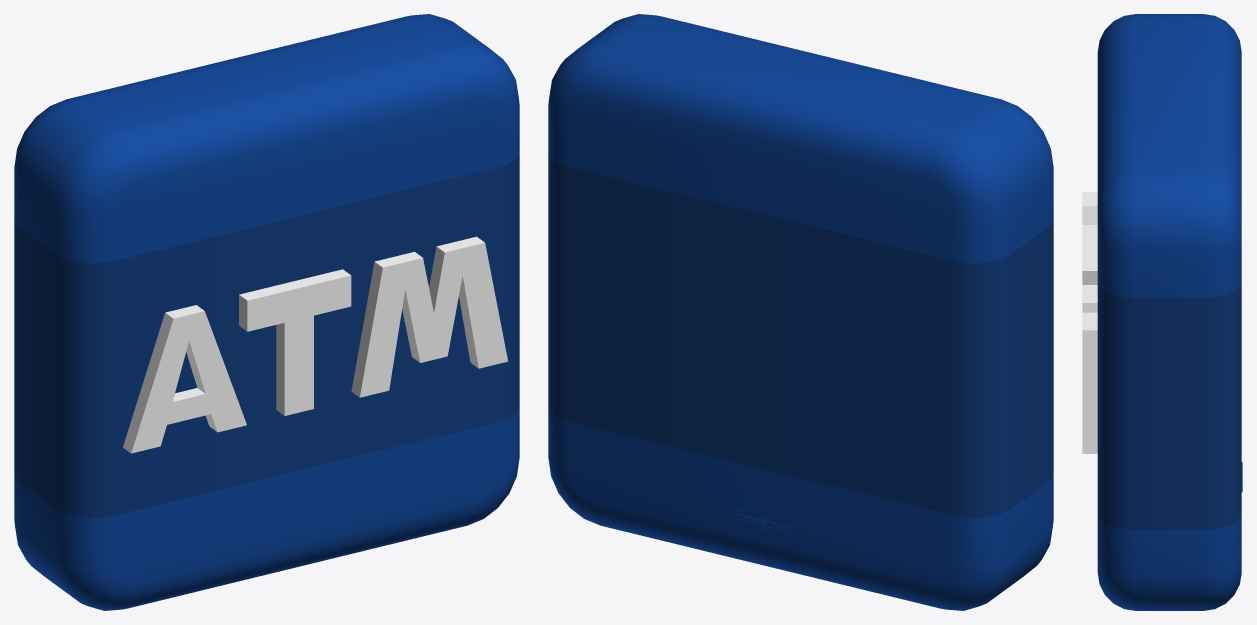
Rendered from atm_sign.glb.
The picture shows the model from 3 angles, left to right: view 1: azimuth 30°, elevation 25°; view 2: azimuth 150°, elevation 25°; view 3: azimuth 270°, elevation 25°; orthographic projection. The views are drawn at different scales.
Visible parts, largest first — view 1: Cube.040; view 2: Cube.040; view 3: Cube.040.
Part boxes in pixels (bbox=[...]): Cube.040: bbox=[14, 14, 519, 610]; Cube.040: bbox=[548, 14, 1053, 610]; Cube.040: bbox=[1082, 14, 1242, 610].
Bounding box in the file's own units: 2.2 × 2.2 × 0.7336.
1 material, 1 textured.
